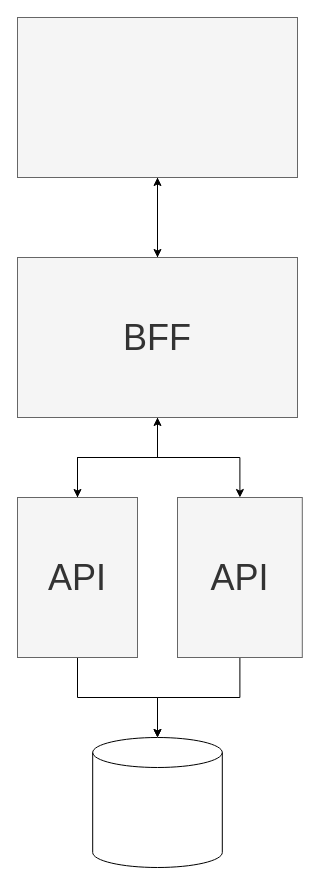
Some shapes in this 320 by 885 pixel diagram are drawn without their labels. The shapes that lost their labels are listed below. From the top down, each one's centre as x and y in pixels, then its label:
At point (157, 97): "Browser".
At point (157, 802): "DB".
